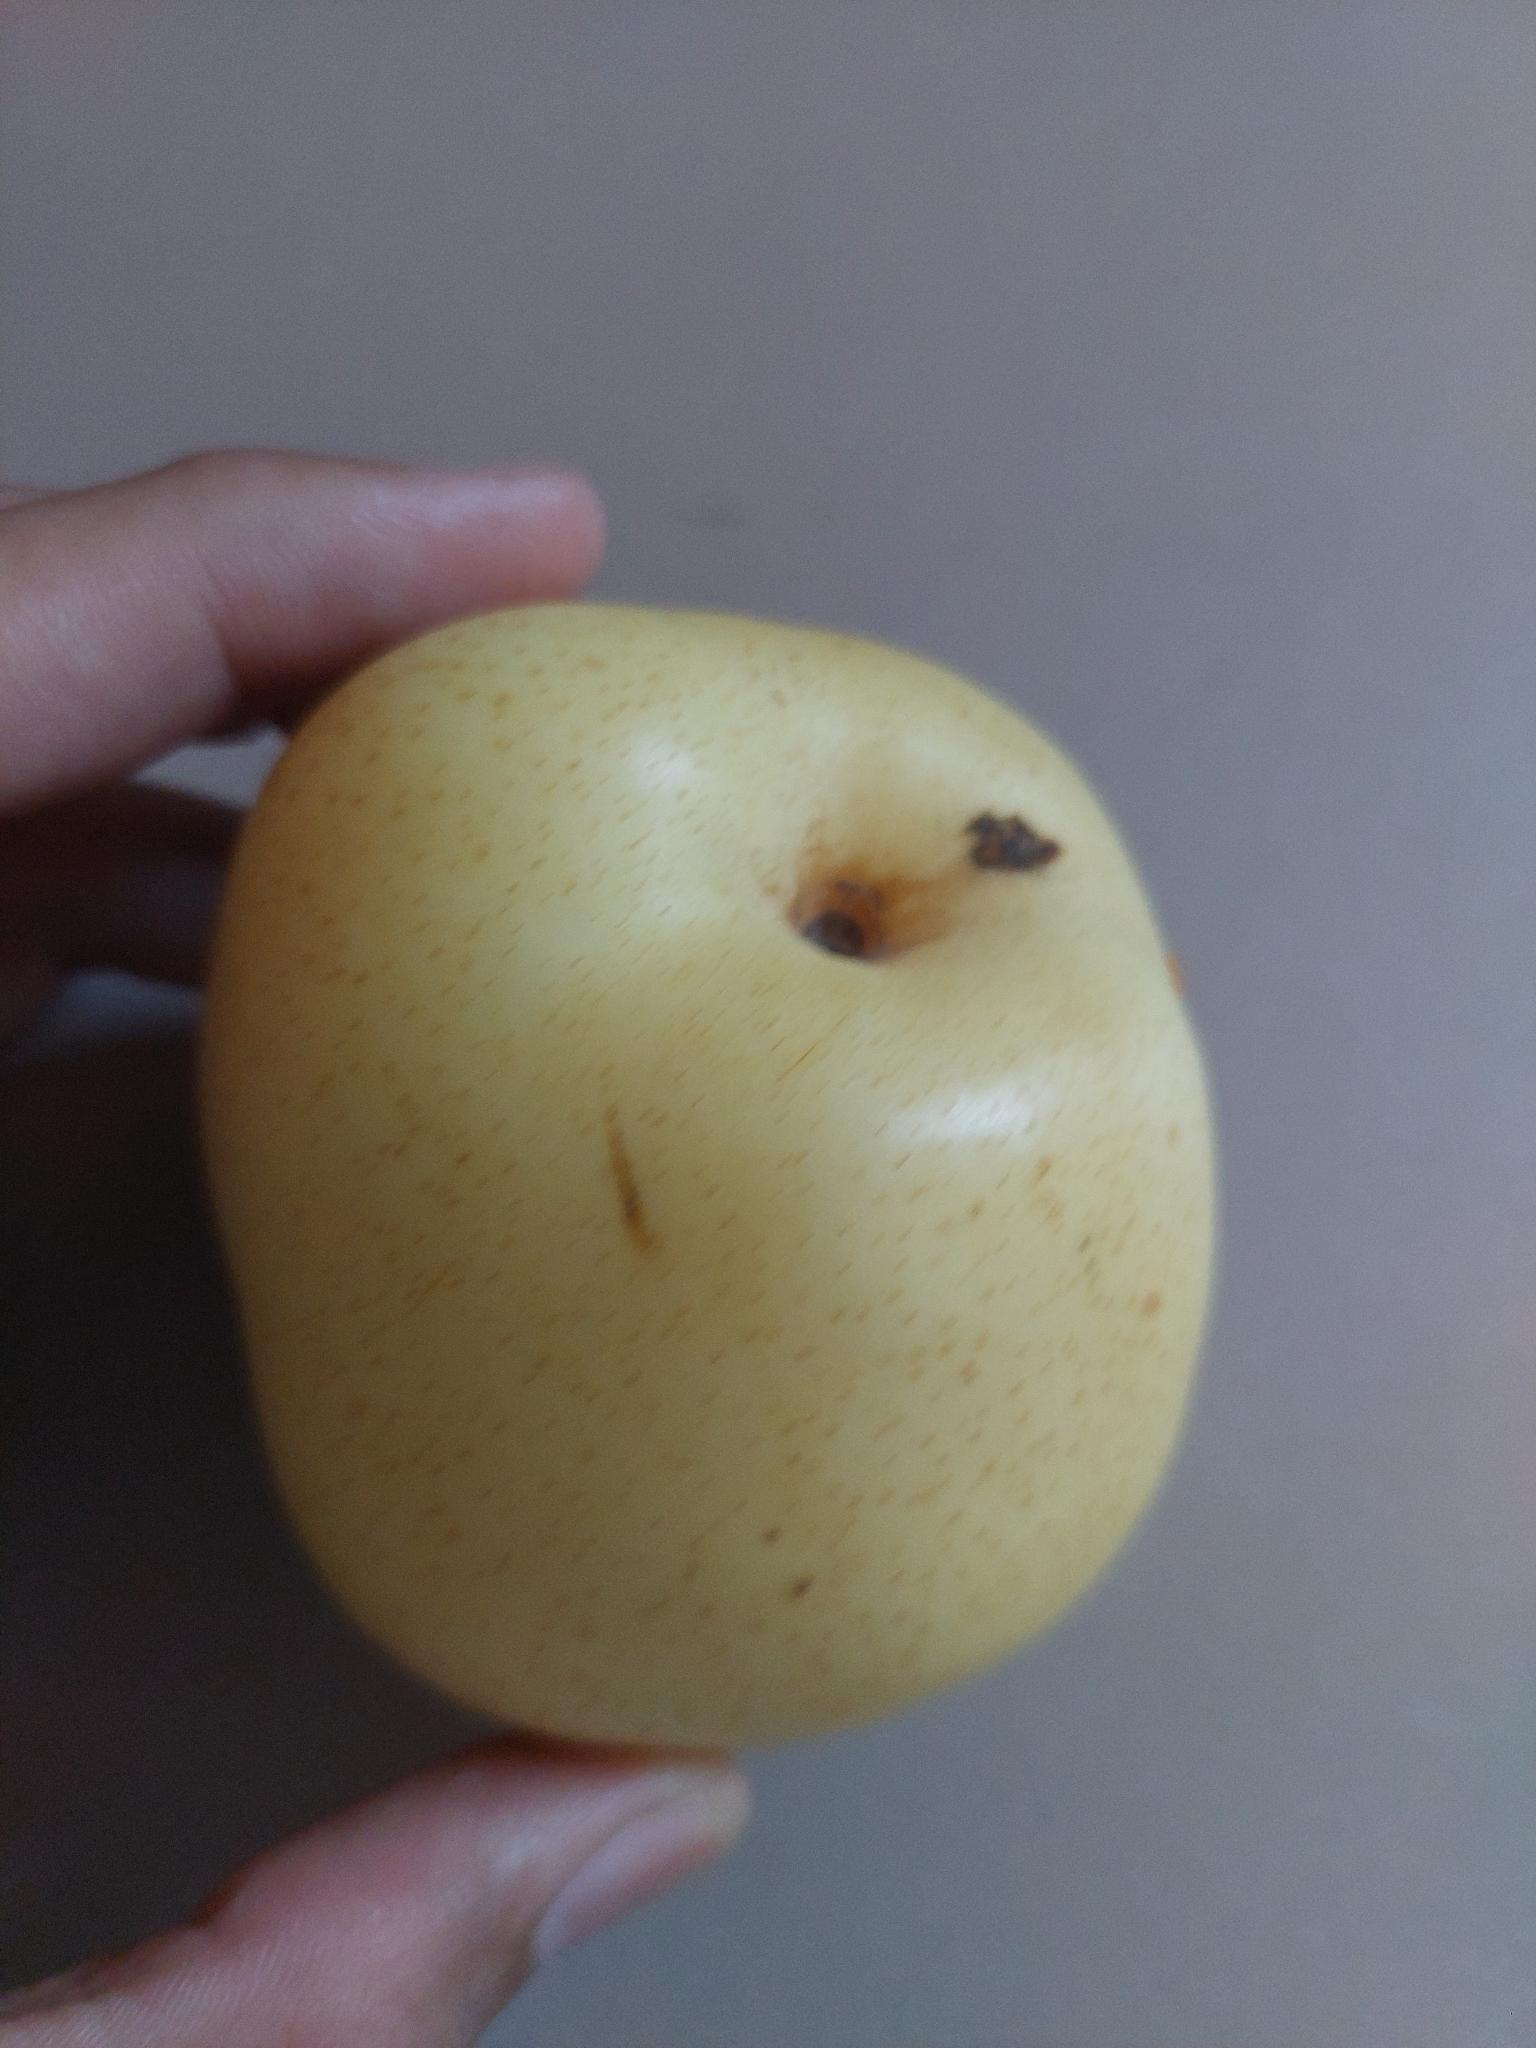Good Pear: (200, 594, 1214, 1746)
